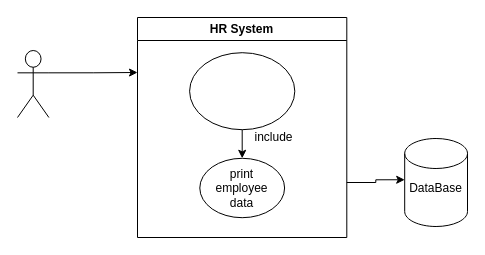
Image size: 485x255. Some labels were removed from this diagram. The shapes that lost their labels are listed below. From the top down, each one's centre as x and y in pixels, then its label:
[32,84]: HR
[242,91]: view employee details
